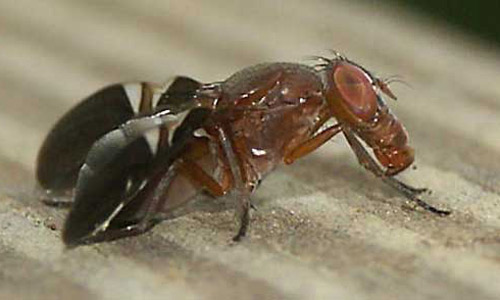phorid fly: (23, 33, 477, 267)
